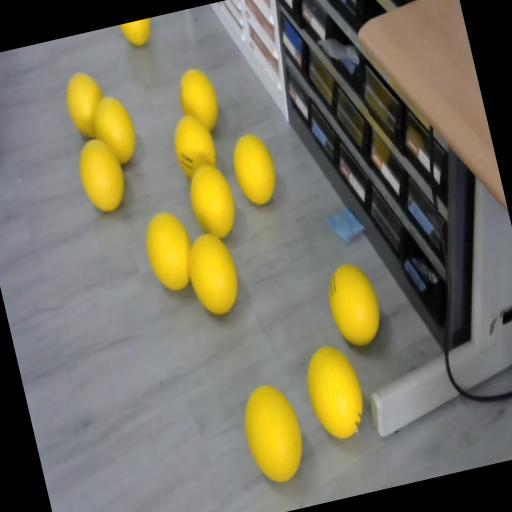FUEL: (235, 378, 311, 486), (298, 340, 370, 442), (320, 256, 387, 352), (180, 226, 246, 319), (138, 206, 200, 296), (72, 132, 131, 216), (183, 160, 242, 242), (226, 128, 282, 208), (60, 68, 112, 142), (174, 64, 224, 134), (119, 18, 155, 50)
